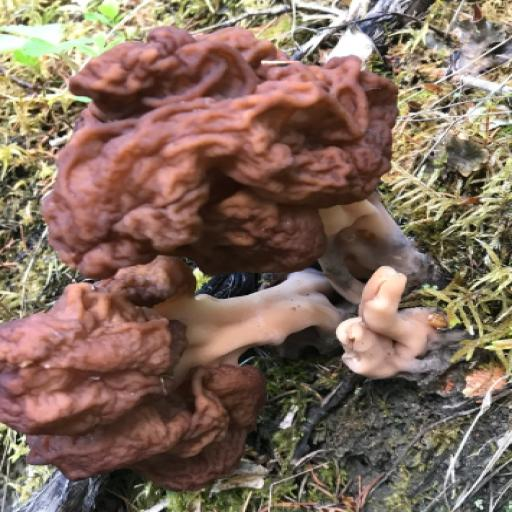False Morel: (51, 22, 451, 319), (0, 264, 427, 487)
